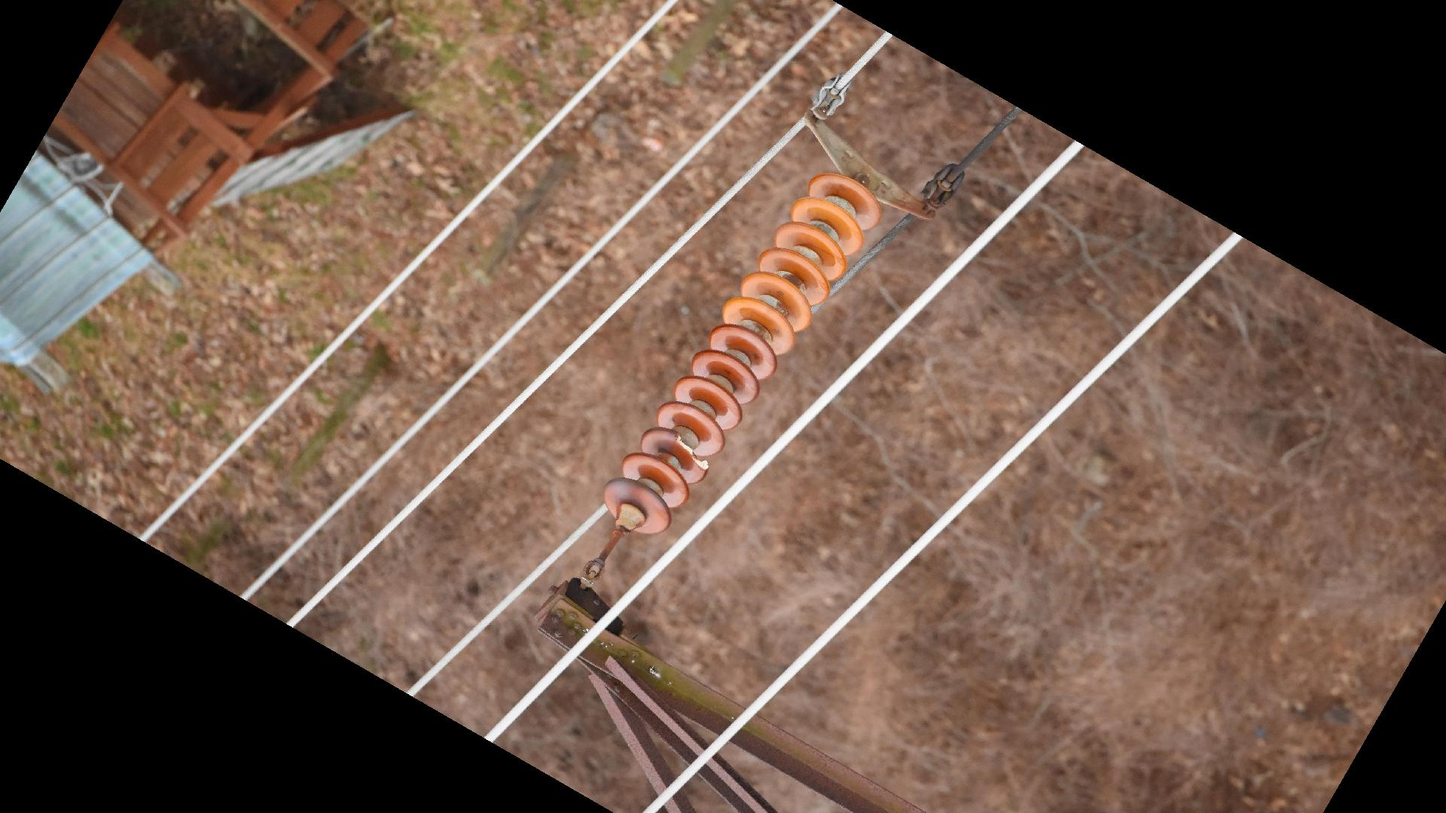insulator: (599, 166, 885, 539)
insulator_breakage: (670, 428, 712, 476)
